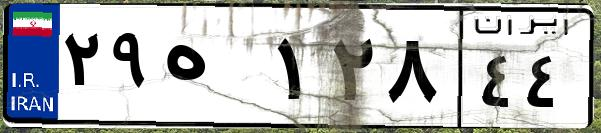1: (270, 28, 330, 110)
2: (330, 28, 385, 110), (57, 26, 110, 100)
4: (475, 38, 525, 113), (525, 38, 570, 115)
8: (385, 28, 445, 110)
9: (110, 28, 158, 98)
ه: (158, 20, 270, 120)
